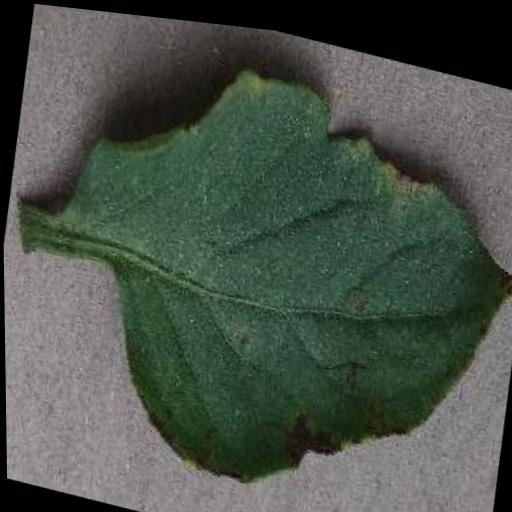Bacterial Spot: (0, 3, 512, 512)
